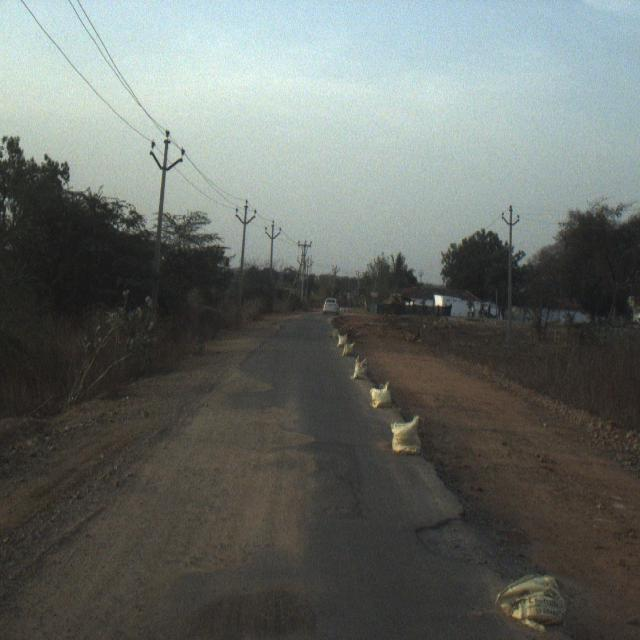pothole: (229, 366, 347, 536), (402, 486, 500, 586), (190, 571, 329, 640)
